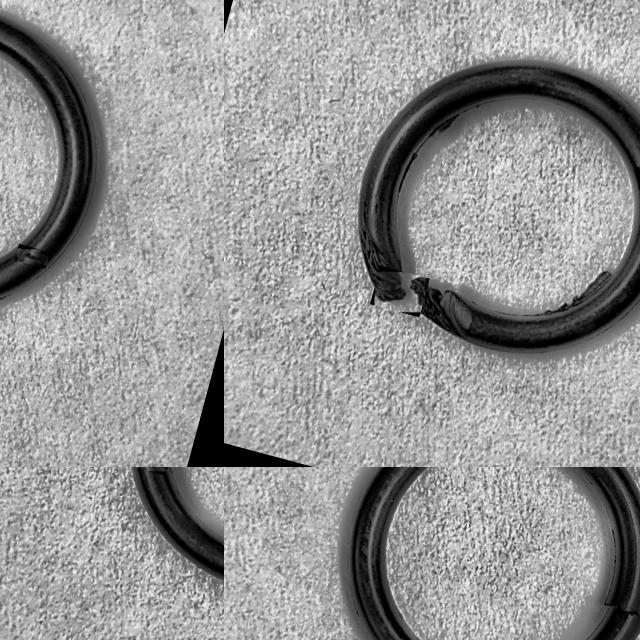切割缺陷: (358, 215, 402, 291), (421, 285, 472, 336), (16, 248, 48, 265)
挤压缺陷: (375, 273, 424, 312), (597, 596, 640, 622)
裂纹: (543, 271, 611, 313), (396, 153, 418, 196), (430, 114, 459, 137)
